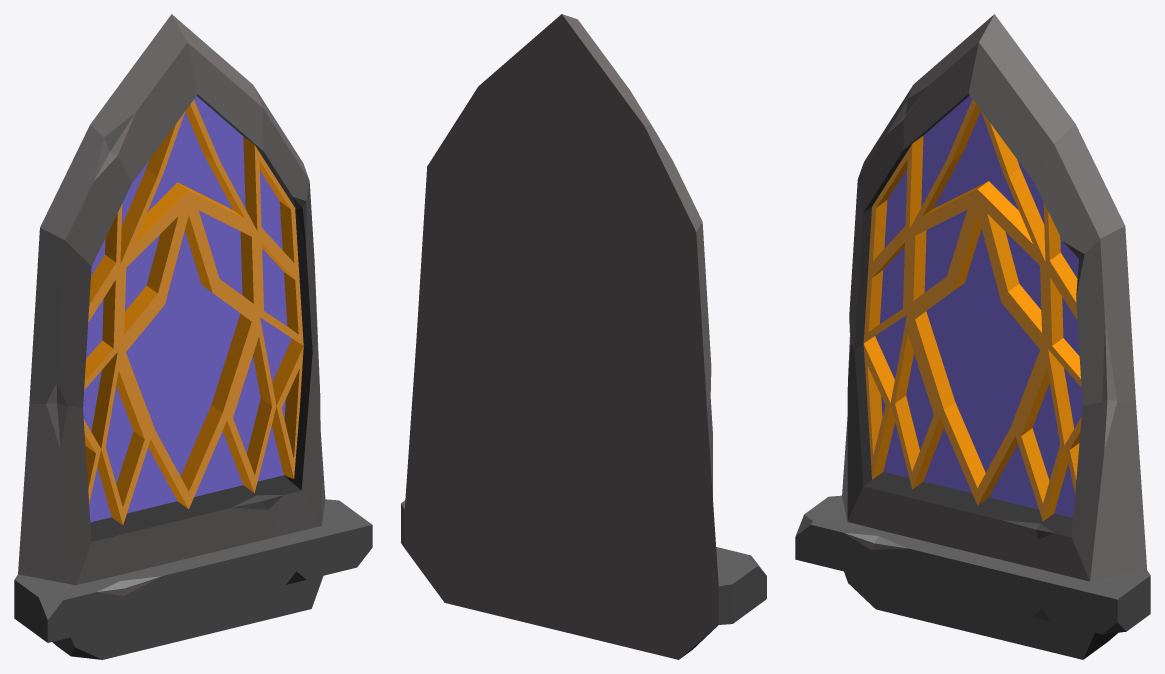
File: Window_02.glb
3 views of the same model, side by side, from view 1: azimuth 30°, elevation 25°; view 2: azimuth 150°, elevation 25°; view 3: azimuth 330°, elevation 25° (orthographic). The views are drawn at different scales.
Parts seen in each view (by area): view 1: Window_02; view 2: Window_02; view 3: Window_02.
Part boxes in pixels (x1=…): Window_02: x1=14, y1=14, x2=372, y2=659; Window_02: x1=401, y1=14, x2=766, y2=659; Window_02: x1=795, y1=14, x2=1150, y2=659.
Size of what is drawn, in the model's own units: 1.05 by 1.88 by 0.2164.
Materials: 1 (1 with a texture image).
